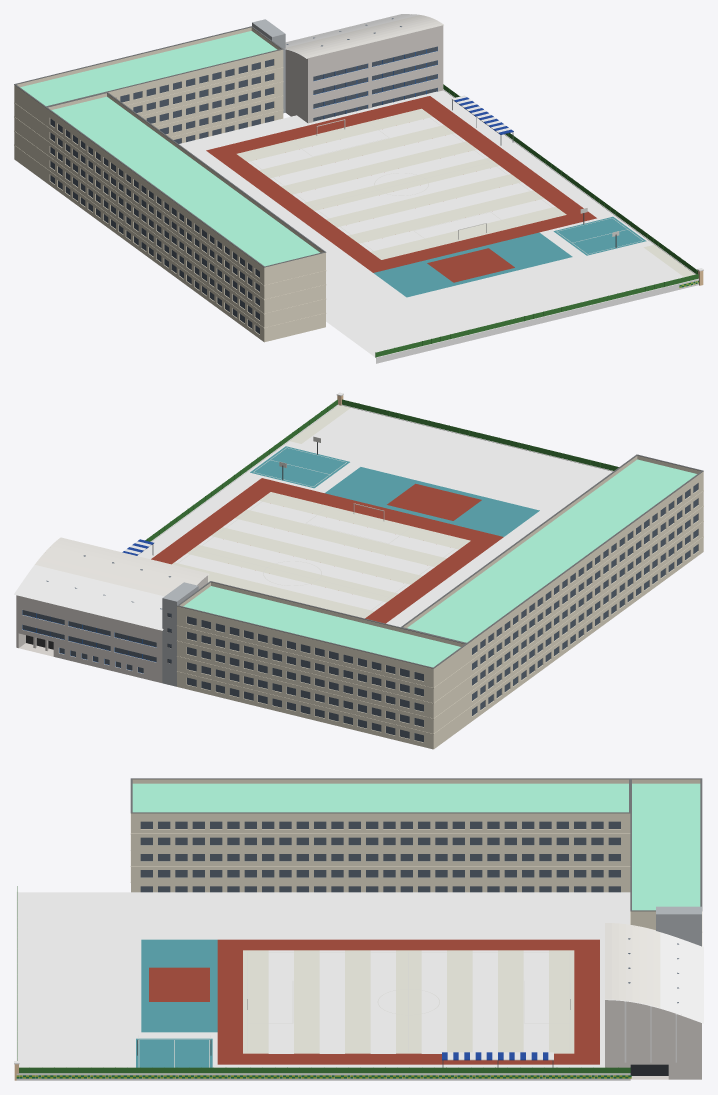
The model's file is school410.glb.
3 views of the same model, one above another, from view 1: azimuth 30°, elevation 25°; view 2: azimuth 150°, elevation 25°; view 3: azimuth 270°, elevation 25° (orthographic). The views are drawn at different scales.
Visible parts, largest first — view 1: School410; view 2: School410; view 3: School410.
Boxes of the visible parts, <box> form: School410: <box>14,14,703,363</box>; School410: <box>14,392,703,749</box>; School410: <box>14,778,703,1080</box>.
Size of the model in its own units: 101 by 19.5 by 135.
